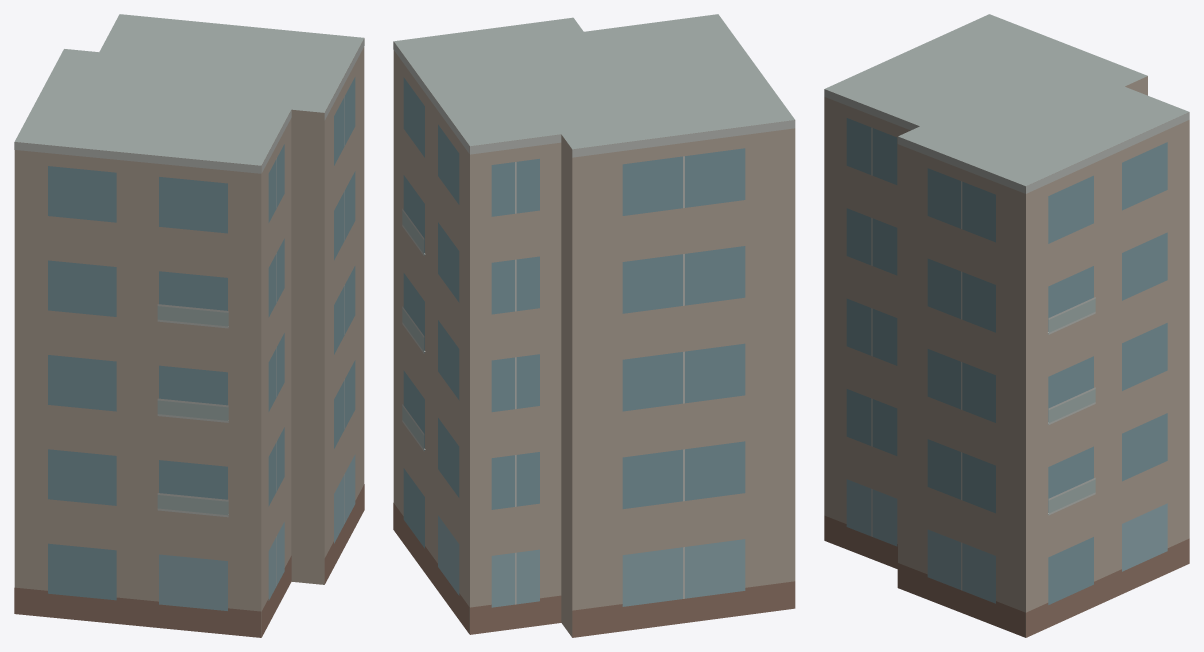
Rendered from survey-upis-32957771.glb.
The picture shows the model from 3 angles, left to right: view 1: azimuth 30°, elevation 25°; view 2: azimuth 150°, elevation 25°; view 3: azimuth 270°, elevation 25°; orthographic projection. The views are drawn at different scales.
Parts seen in each view (by area): view 1: survey-upis-32957771.tmp; view 2: survey-upis-32957771.tmp; view 3: survey-upis-32957771.tmp.
Boxes of the visible parts, x1,y1,x2,y2 form: survey-upis-32957771.tmp: (14,14,364,637); survey-upis-32957771.tmp: (393,14,795,637); survey-upis-32957771.tmp: (824,14,1189,637).
Bounding box in the file's own units: 11.71 × 14.3 × 10.49.
